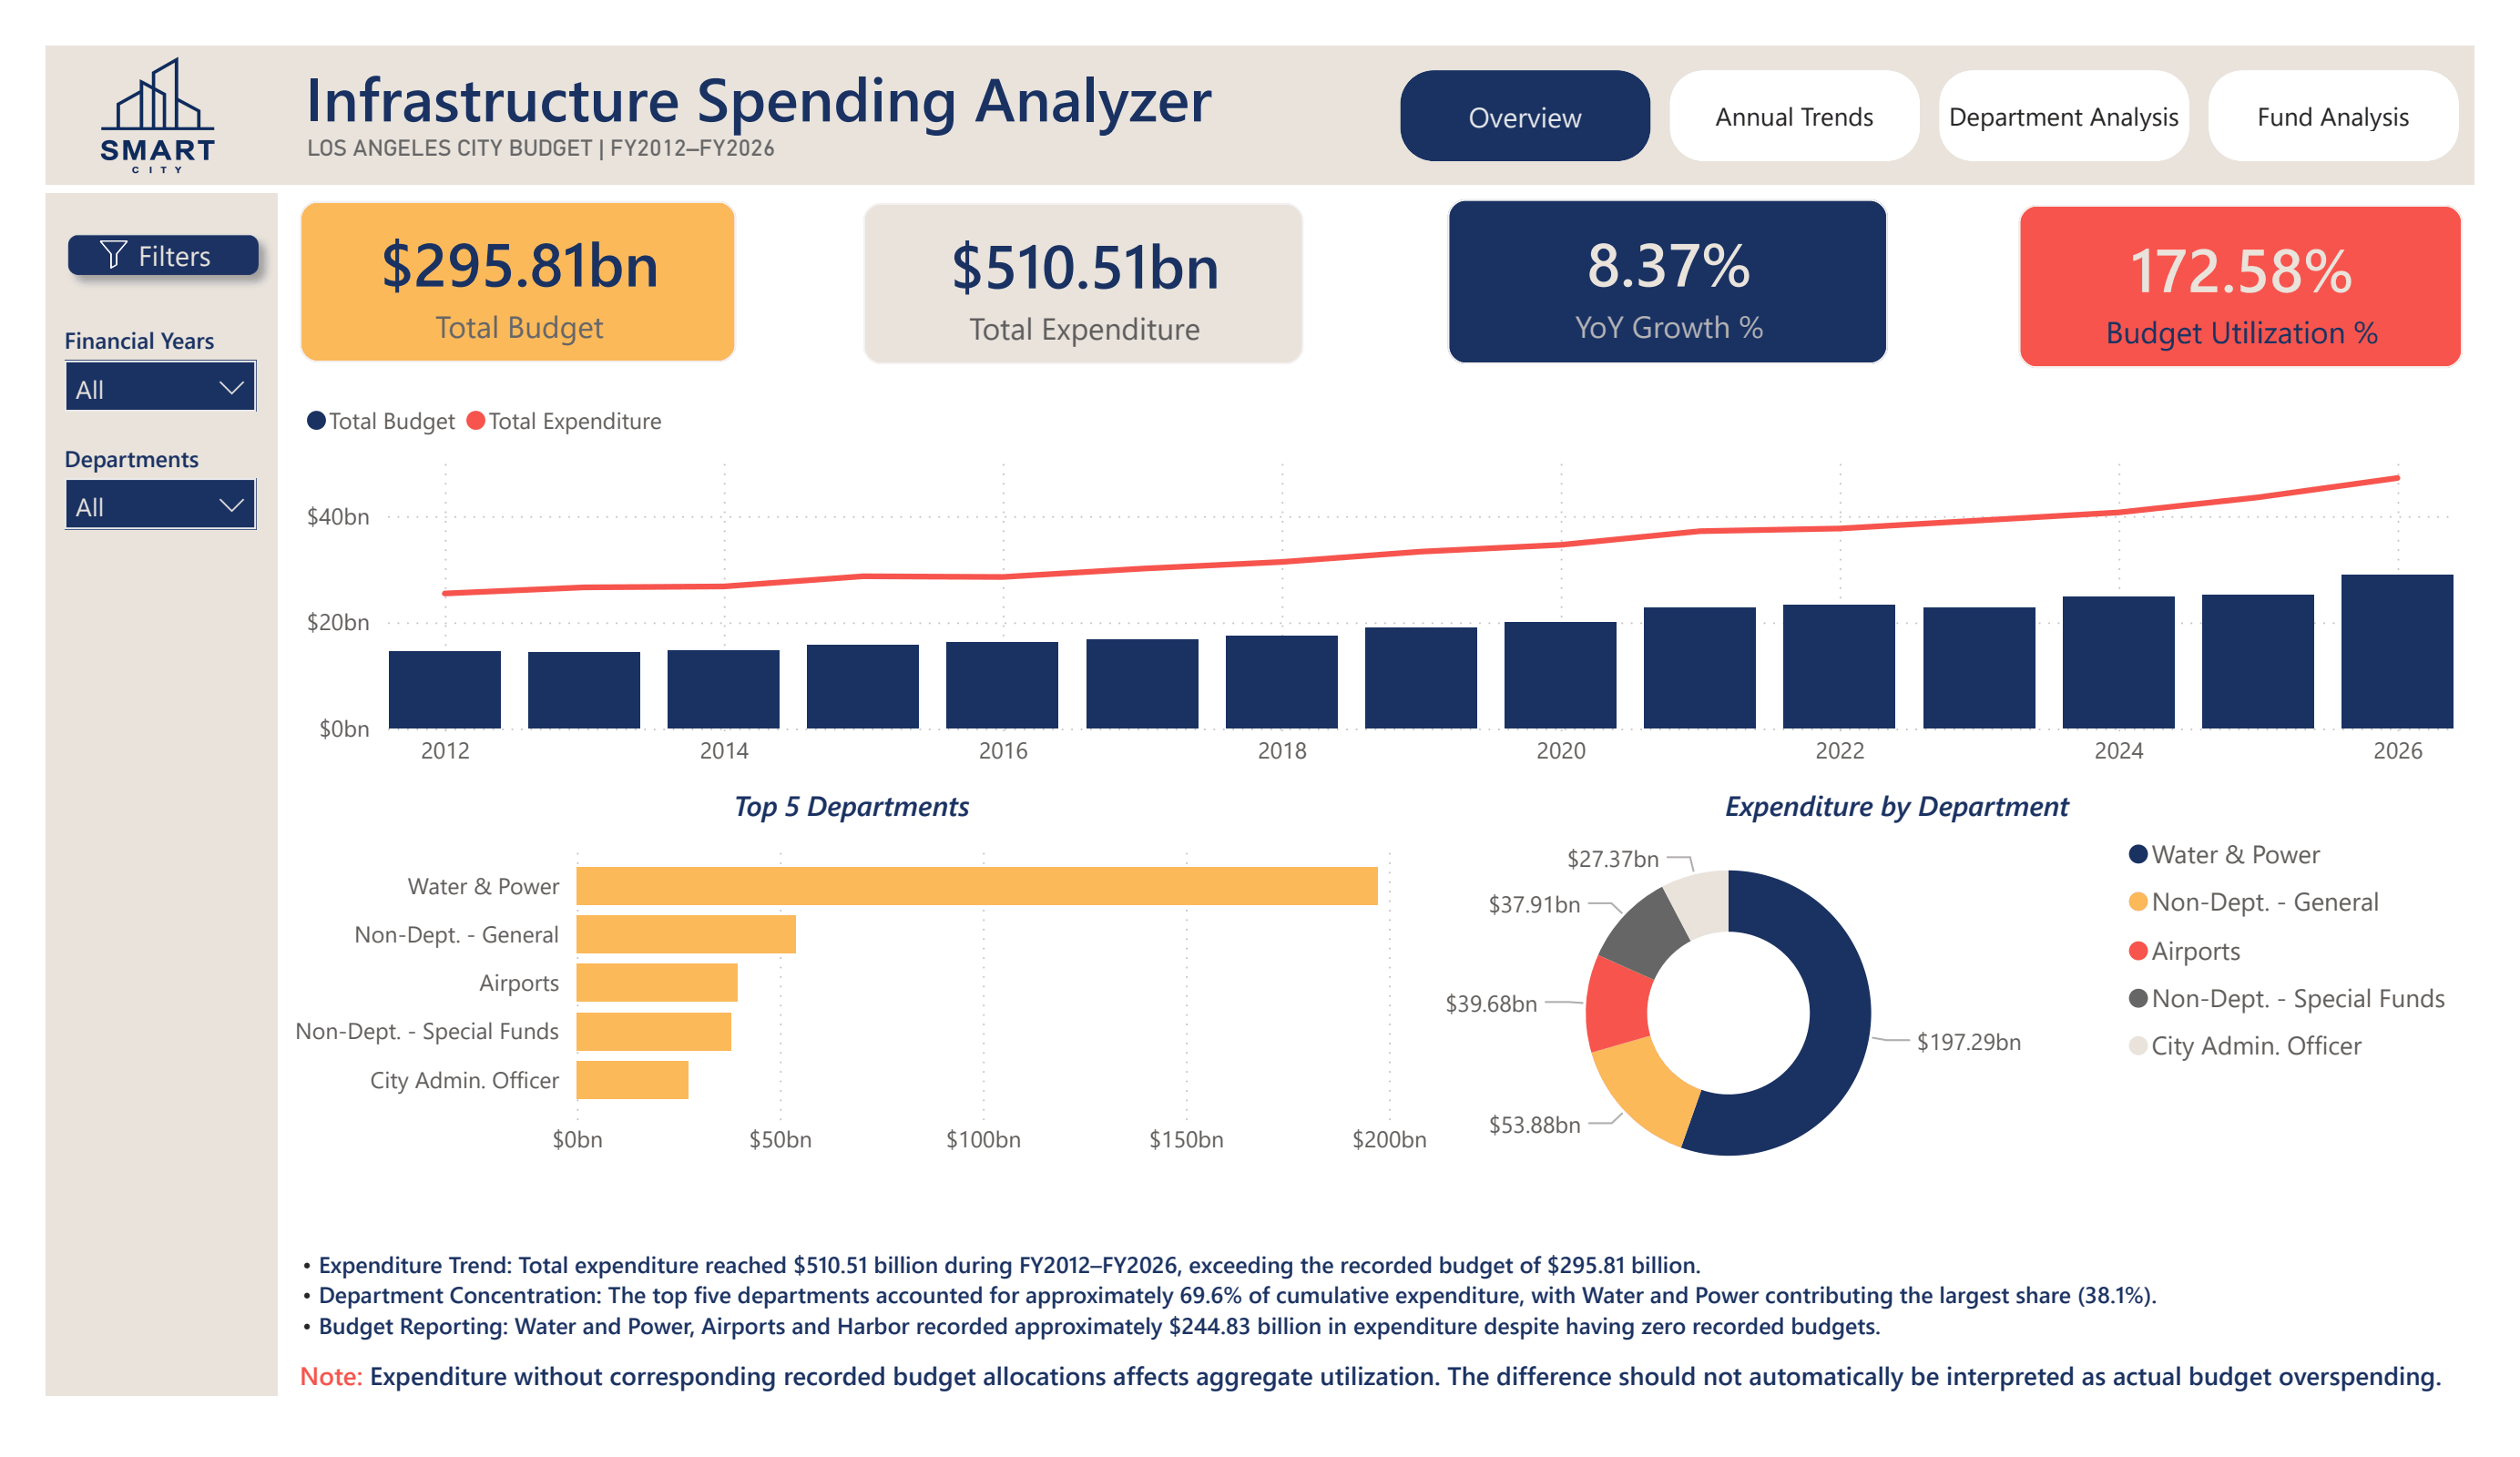

The page's visual inventory and layout, read from the dashboard file:
{"tool":"powerbi","page":{"name":"Overview","canvas":[1280,720],"ordinal":0},"visuals":[{"type":"shape","box":[0,78.1,121.9,633.8],"z":1000},{"type":"shape","box":[0,0,1280,72.9],"z":2000},{"type":"textbox","title":"LOS ANGELES CITY BUDGET | FY2012–FY2026","box":[132,0,528,145],"z":3000},{"type":"image","box":[4.3,0,107.1,72.9],"z":4000},{"type":"textbox","box":[133,39,315,100],"z":5000},{"type":"shape","box":[2.5,91.2,118.8,38.4],"z":6000},{"type":"image","box":[27.9,98.4,15.8,24.2],"z":7000},{"type":"textbox","box":[43.6,95,87.7,38.2],"z":8000},{"type":"slicer","fields":{"Values":["Dim_FiscalYear.Fiscal Year"]},"box":[0,156.4,120.9,43.6],"z":9000},{"type":"textbox","box":[4.5,141,133.5,30],"z":10000},{"type":"slicer","fields":{"Values":["Dim_Department.Department Name"]},"box":[0,217.8,121.1,70],"z":11000},{"type":"textbox","box":[4.7,202.7,133.3,30],"z":12000},{"type":"cardVisual","fields":{"Data":["Measures (2).Total Expenditure"]},"box":[430.6,82.9,232.9,85.7],"z":13000},{"type":"cardVisual","fields":{"Data":["Measures (2).Total Budget"]},"box":[133.4,81.4,232.9,87.1],"z":14000},{"type":"cardVisual","fields":{"Data":["Measures (2).YoY Growth %"]},"box":[739.1,81.4,232.9,87.1],"z":15000},{"type":"cardVisual","fields":{"Data":["Measures (2).Budget Utilization %"]},"box":[1040,84,234,86],"z":16000},{"type":"lineClusteredColumnComboChart","fields":{"Y2":["Measures (2).Total Expenditure"],"Category":["Dim_FiscalYear.Fiscal Year"],"Y":["Measures (2).Total Budget"]},"box":[132,178,1142,212],"z":17000},{"type":"clusteredBarChart","title":"Top 5 Departments","fields":{"Y":["Measures (2).Department Expenditure"],"Category":["Dim_Department.Department Display Name"]},"box":[122,390,606,200],"z":18000},{"type":"donutChart","title":"Expenditure by Department","fields":{"Y":["Measures (2).Department Expenditure"],"Category":["Dim_Department.Department Display Name"]},"box":[672,390,608,222],"z":19000},{"type":"textbox","box":[121,629,1078,83],"z":20000},{"type":"textbox","box":[128.9,686.7,1151.1,33.3],"z":21000},{"type":"pageNavigator","box":[714.3,12.9,560,48.6],"z":22000}]}

Visuals, with their boxes on the page's 1280x720 design canvas (x1, y1, x2, y2). These are canvas units, not pixel positions in the 2520x1457 screenshot, which may show the page scaled, cropped or inside an application window:
shape: pyautogui.locateOnScreen(0, 78, 122, 712)
shape: pyautogui.locateOnScreen(0, 0, 1280, 73)
"LOS ANGELES CITY BUDGET | FY2012–FY2026" textbox: pyautogui.locateOnScreen(132, 0, 660, 145)
image: pyautogui.locateOnScreen(4, 0, 111, 73)
textbox: pyautogui.locateOnScreen(133, 39, 448, 139)
shape: pyautogui.locateOnScreen(2, 91, 121, 130)
image: pyautogui.locateOnScreen(28, 98, 44, 123)
textbox: pyautogui.locateOnScreen(44, 95, 131, 133)
slicer - Dim_FiscalYear.Fiscal Year: pyautogui.locateOnScreen(0, 156, 121, 200)
textbox: pyautogui.locateOnScreen(4, 141, 138, 171)
slicer - Dim_Department.Department Name: pyautogui.locateOnScreen(0, 218, 121, 288)
textbox: pyautogui.locateOnScreen(5, 203, 138, 233)
cardVisual - Measures (2).Total Expenditure: pyautogui.locateOnScreen(431, 83, 664, 169)
cardVisual - Measures (2).Total Budget: pyautogui.locateOnScreen(133, 81, 366, 168)
cardVisual - Measures (2).YoY Growth %: pyautogui.locateOnScreen(739, 81, 972, 168)
cardVisual - Measures (2).Budget Utilization %: pyautogui.locateOnScreen(1040, 84, 1274, 170)
lineClusteredColumnComboChart - Measures (2).Total Expenditure x Dim_FiscalYear.Fiscal Year: pyautogui.locateOnScreen(132, 178, 1274, 390)
"Top 5 Departments" clusteredBarChart: pyautogui.locateOnScreen(122, 390, 728, 590)
"Expenditure by Department" donutChart: pyautogui.locateOnScreen(672, 390, 1280, 612)
textbox: pyautogui.locateOnScreen(121, 629, 1199, 712)
textbox: pyautogui.locateOnScreen(129, 687, 1280, 720)
pageNavigator: pyautogui.locateOnScreen(714, 13, 1274, 62)
